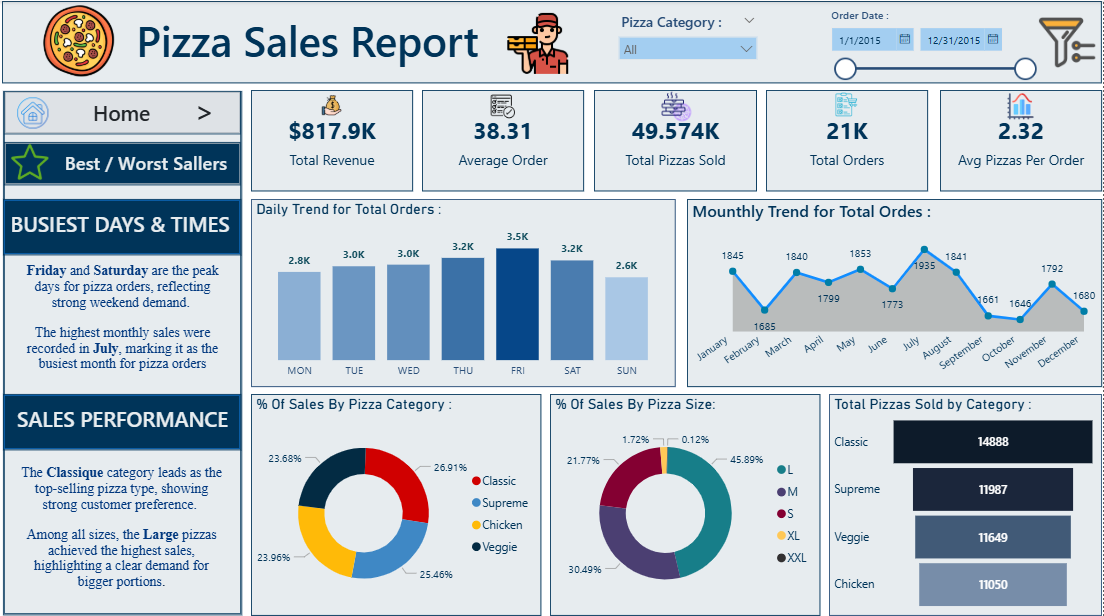

The dashboard page shown, as its layout file describes it:
{"tool":"powerbi","page":{"name":"Home","canvas":[1280,720],"ordinal":0},"visuals":[{"type":"textbox","box":[10.7,0,1269.3,94.6],"z":0},{"type":"slicer","fields":{"Values":["pizza_sales.pizza_category"]},"box":[711.9,8.1,180,75],"z":1000},{"type":"slicer","fields":{"Values":["pizza_sales.order_date"]},"box":[954.2,2.3,257.3,94.6],"z":2000},{"type":"image","box":[43.8,0,110.8,92.3],"z":3000},{"type":"image","box":[586.2,2.3,85.4,92.3],"z":4000},{"type":"textbox","box":[160.4,8.1,416.5,79.6],"z":5000},{"type":"card","fields":{"Values":["pizza_sales.Total Revenue"]},"box":[297.7,102.7,186.9,116.5],"z":6000},{"type":"image","box":[369.2,103.8,43.8,33.5],"z":7000},{"type":"card","fields":{"Values":["pizza_sales.Average Order"]},"box":[495,102.7,186.9,116.5],"z":8000},{"type":"image","box":[557.3,102.7,62.3,38.1],"z":9000},{"type":"card","fields":{"Values":["pizza_sales.Total Pizzas Sold"]},"box":[693.5,102.7,188.1,116.5],"z":10000},{"type":"card","fields":{"Values":["pizza_sales.Total Orders"]},"box":[891.9,102.7,186.9,116.5],"z":11000},{"type":"image","box":[964.6,100.4,40.4,38.1],"z":12000},{"type":"card","fields":{"Values":["pizza_sales.Avg Pizzas Per Order"]},"box":[1092.7,102.7,186.9,116.5],"z":13000},{"type":"image","box":[1159.6,101.5,51.9,40.4],"z":14000},{"type":"image","box":[758.1,99.2,60,45],"z":15000},{"type":"lineChart","title":"Mounthly Trend for Total Ordes :","fields":{"Y":["Count(pizza_sales.order_id)"],"Category":["pizza_sales.order_date.Variation.Date Hierarchy.Month"]},"box":[800.8,228.5,478.8,216.9],"z":16000},{"type":"clusteredColumnChart","title":"Daily Trend for Total Orders :","fields":{"Y":["pizza_sales.Total Orders"],"Category":["pizza_sales.Order Day"]},"box":[297.7,228.5,490.4,216.9],"z":17000},{"type":"funnel","title":"Total Pizzas Sold by Category :","fields":{"Category":["pizza_sales.pizza_category"],"Y":["Sum(pizza_sales.quantity)"]},"box":[964.6,453.5,315,256.2],"z":18000},{"type":"donutChart","title":"% Of Sales By Pizza Size:","fields":{"Category":["pizza_sales.pizza_size"],"Y":["pizza_sales.% Of Sales By Pizza Size"]},"box":[642.7,453.5,311.5,256.2],"z":19000},{"type":"donutChart","title":"% Of Sales By Pizza Category :","fields":{"Y":["pizza_sales.% Of Sales By Pizza Size"],"Category":["pizza_sales.pizza_category"]},"box":[297.7,453.5,334.6,256.2],"z":20000},{"type":"shape","box":[11.5,103.8,275.8,604.6],"z":21000},{"type":"shape","box":[11.5,453.5,274.6,64.6],"z":22000},{"type":"shape","box":[11.5,228.5,274.6,64.6],"z":23000},{"type":"textbox","box":[11.5,460.4,275.8,49.6],"z":24000},{"type":"textbox","box":[11.5,235.4,276.9,49.6],"z":25000},{"type":"textbox","box":[21.9,530.8,252.7,155.8],"z":26000},{"type":"textbox","box":[23.1,297.7,252.7,155.8],"z":27000},{"type":"image","box":[1198.8,10.4,80.8,75],"z":28000},{"type":"shape","box":[12.7,103.8,273.5,49.6],"z":29000},{"type":"textbox","box":[81.9,107.3,132.7,41.5],"z":30000},{"type":"image","box":[21.9,106.2,47.3,46.2],"z":31000},{"type":"textbox","box":[201.9,98.1,84.2,64.6],"z":32000},{"type":"shape","box":[12.7,162.7,273.5,49.6],"z":33000},{"type":"textbox","box":[66.9,167.3,219.2,41.5],"z":34000},{"type":"image","box":[15,159.2,54.2,53.1],"z":35000}]}

Visuals, with their boxes in screenshot pixels (x1, y1, x2, y2), scaled from the page's 1280x720 canvas onto the 1104x616 screenshot:
textbox: <box>9,0,1103,81</box>
slicer - pizza_sales.pizza_category: <box>614,7,769,71</box>
slicer - pizza_sales.order_date: <box>823,2,1045,83</box>
image: <box>38,0,133,79</box>
image: <box>506,2,579,81</box>
textbox: <box>138,7,498,75</box>
card - pizza_sales.Total Revenue: <box>257,88,418,188</box>
image: <box>318,89,356,117</box>
card - pizza_sales.Average Order: <box>427,88,588,188</box>
image: <box>481,88,534,120</box>
card - pizza_sales.Total Pizzas Sold: <box>598,88,760,188</box>
card - pizza_sales.Total Orders: <box>769,88,930,188</box>
image: <box>832,86,867,118</box>
card - pizza_sales.Avg Pizzas Per Order: <box>942,88,1103,188</box>
image: <box>1000,87,1045,121</box>
image: <box>654,85,706,123</box>
"Mounthly Trend for Total Ordes :" lineChart: <box>691,195,1103,381</box>
"Daily Trend for Total Orders :" clusteredColumnChart: <box>257,195,680,381</box>
"Total Pizzas Sold by Category :" funnel: <box>832,388,1103,607</box>
"% Of Sales By Pizza Size:" donutChart: <box>554,388,823,607</box>
"% Of Sales By Pizza Category :" donutChart: <box>257,388,545,607</box>
shape: <box>10,89,248,606</box>
shape: <box>10,388,247,443</box>
shape: <box>10,195,247,251</box>
textbox: <box>10,394,248,436</box>
textbox: <box>10,201,249,244</box>
textbox: <box>19,454,237,587</box>
textbox: <box>20,255,238,388</box>
image: <box>1034,9,1103,73</box>
shape: <box>11,89,247,131</box>
textbox: <box>71,92,185,127</box>
image: <box>19,91,60,130</box>
textbox: <box>174,84,247,139</box>
shape: <box>11,139,247,182</box>
textbox: <box>58,143,247,179</box>
image: <box>13,136,60,182</box>
